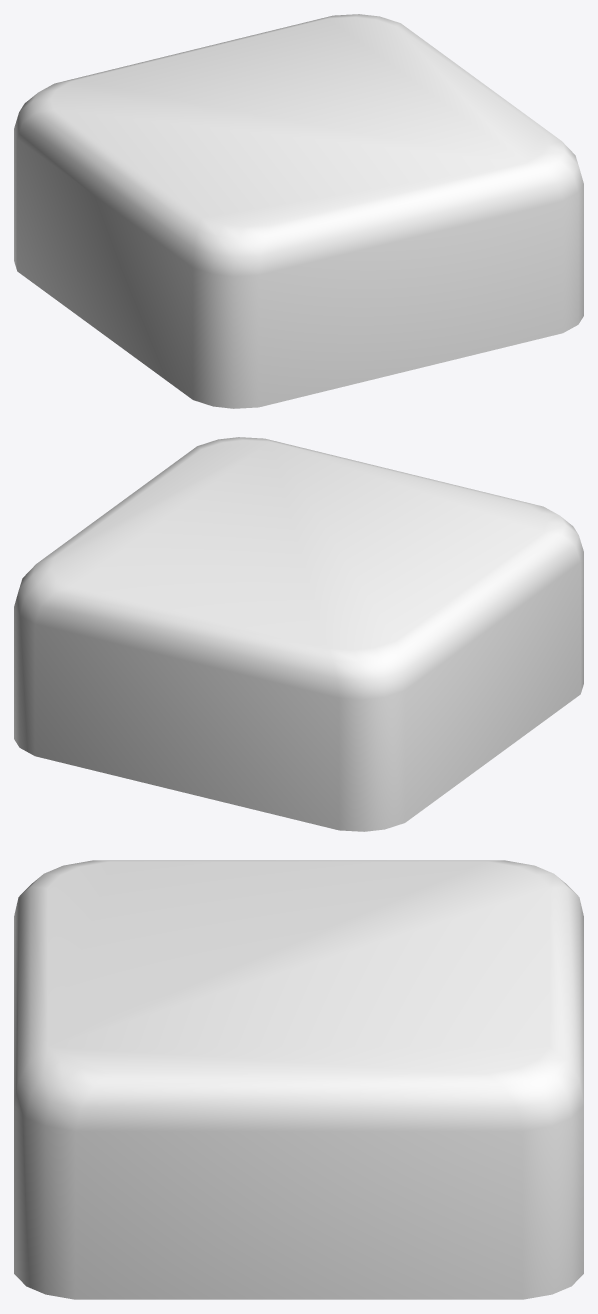
File: Obstacle_3D.fbx
The picture shows the model from 3 angles, top to bottom: view 1: azimuth 30°, elevation 25°; view 2: azimuth 150°, elevation 25°; view 3: azimuth 270°, elevation 25°; orthographic projection. The views are drawn at different scales.
Visible parts, largest first — view 1: Obstacle_3D; view 2: Obstacle_3D; view 3: Obstacle_3D.
Boxes of the visible parts, x1,y1,x2,y2 form: Obstacle_3D: [14, 14, 583, 408]; Obstacle_3D: [14, 437, 583, 831]; Obstacle_3D: [14, 860, 583, 1299].
Size of the model in its own units: 242 by 99.33 by 242.
